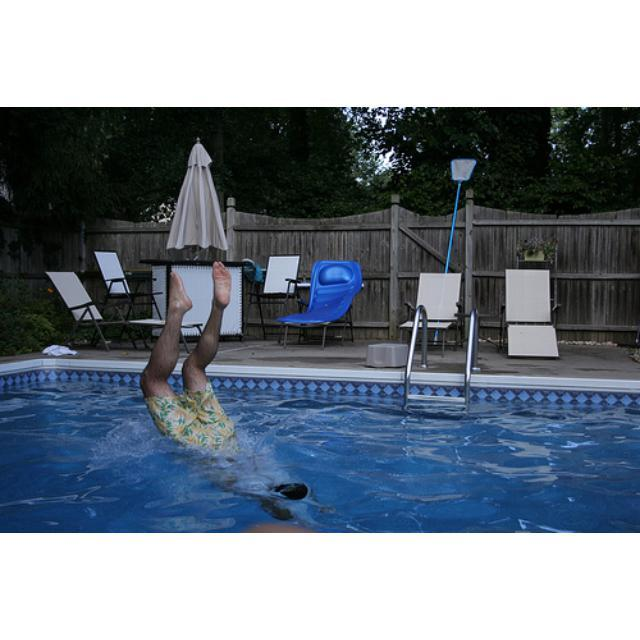human: (138, 263, 300, 504)
